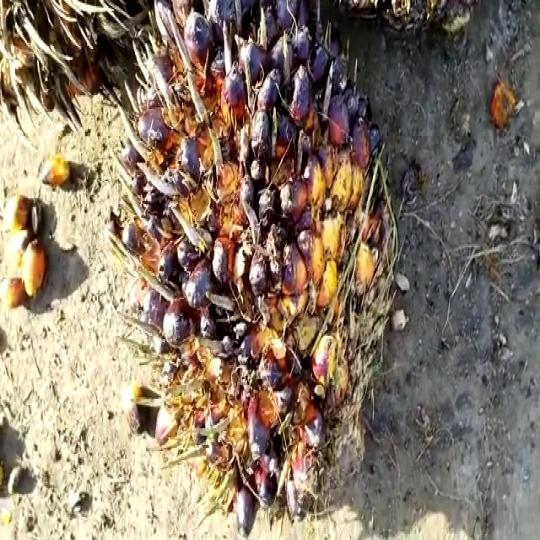masak: (126, 0, 415, 540)
